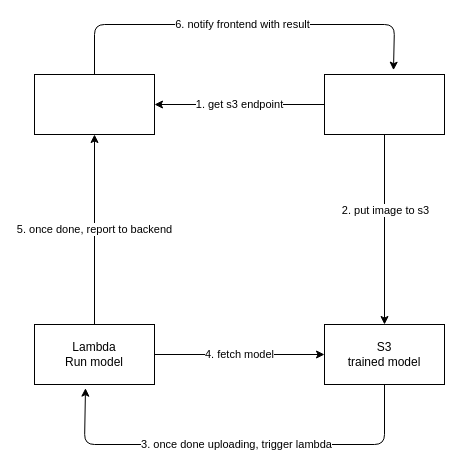
The diagram is 462 pixels wide and 470 high, and some of its shapes have lost their labels. The box of each missing label's shape, as (x1, y1, x2, y2) in pixels:
backend: (34, 74, 154, 134)
frontend: (324, 74, 444, 134)
